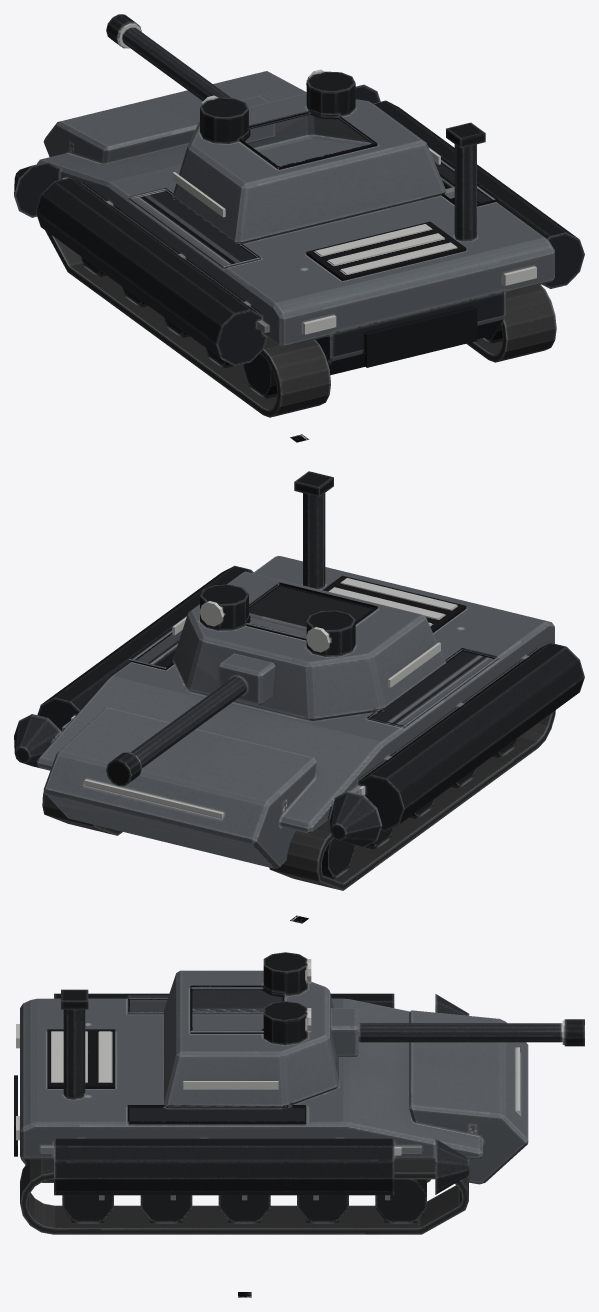
File: chs_mudskipper.fbx
3 renders of one model, top to bottom at view 1: azimuth 30°, elevation 25°; view 2: azimuth 150°, elevation 25°; view 3: azimuth 270°, elevation 25°, orthographic. The views are drawn at different scales.
Parts seen in each view (by area): view 1: base_bar, turret_bar, trackL_bar, trackR_bar, base_glow_running_bar, barrel_bar, turret_glow_running_bar; view 2: base_bar, turret_bar, trackL_bar, barrel_bar, base_glow_running_bar, turret_glow_running_bar, trackR_bar; view 3: base_bar, turret_bar, trackR_bar, barrel_bar, base_glow_running_bar, turret_glow_running_bar.
Boxes of the visible parts, left/top/right/bottom form: base_bar: left=14, top=71, right=584, bottom=375; turret_bar: left=173, top=71, right=445, bottom=244; trackL_bar: left=45, top=230, right=330, bottom=417; trackR_bar: left=466, top=284, right=556, bottom=362; base_glow_running_bar: left=303, top=224, right=536, bottom=334; barrel_bar: left=106, top=14, right=275, bottom=143; turret_glow_running_bar: left=172, top=69, right=440, bottom=217; base_bar: left=14, top=471, right=584, bottom=868; turret_bar: left=173, top=571, right=445, bottom=720; trackL_bar: left=269, top=710, right=555, bottom=890; barrel_bar: left=106, top=653, right=275, bottom=786; base_glow_running_bar: left=71, top=578, right=457, bottom=818; turret_glow_running_bar: left=172, top=601, right=440, bottom=687; trackR_bar: left=42, top=791, right=122, bottom=835; base_bar: left=14, top=989, right=528, bottom=1200; turret_bar: left=164, top=952, right=339, bottom=1107; trackR_bar: left=20, top=1159, right=468, bottom=1234; barrel_bar: left=330, top=1008, right=584, bottom=1056; base_glow_running_bar: left=16, top=1024, right=519, bottom=1155; turret_glow_running_bar: left=183, top=959, right=311, bottom=1089.
Bounding box in the file's own units: 588 × 542 × 839.
Materials: 2 (2 with a texture image).
